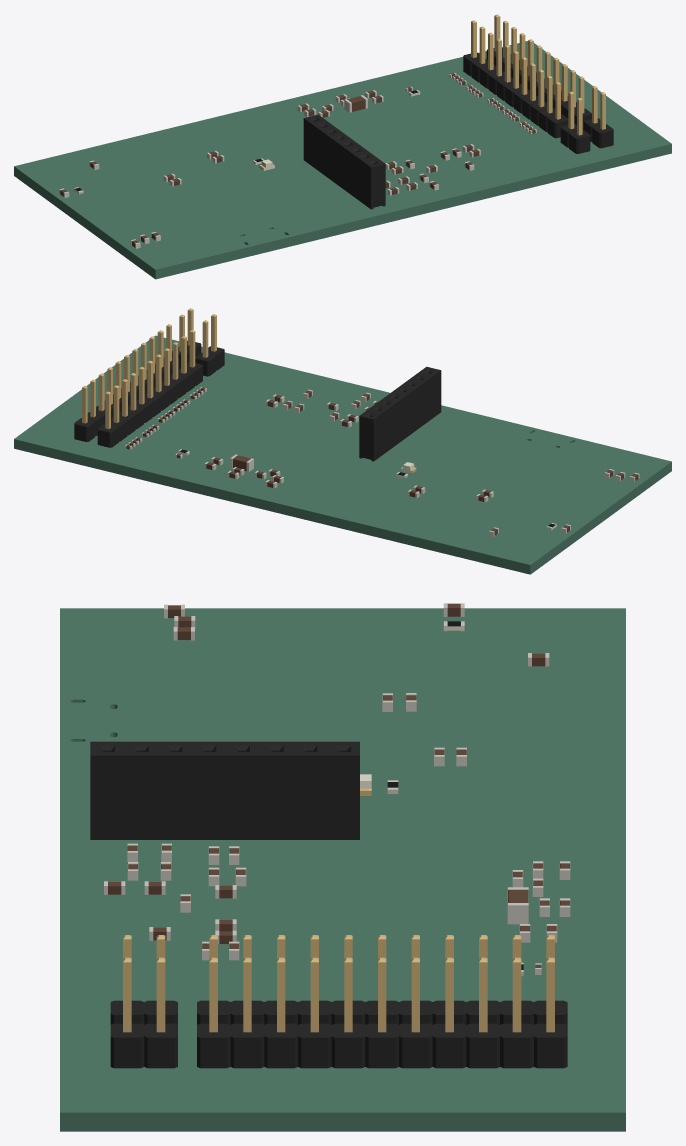
File: board.gltf
The picture shows the model from 3 angles, top to bottom: view 1: azimuth 30°, elevation 25°; view 2: azimuth 150°, elevation 25°; view 3: azimuth 270°, elevation 25°; orthographic projection. The views are drawn at different scales.
Visible parts, largest first — view 1: =>[0:1:1:18], =>[0:1:1:9] (×2), =>[0:1:1:3], =>[0:1:1:15] (×2); view 2: =>[0:1:1:18], =>[0:1:1:9] (×2), =>[0:1:1:3], =>[0:1:1:15] (×2); view 3: =>[0:1:1:18], =>[0:1:1:9] (×2), =>[0:1:1:3], =>[0:1:1:15] (×2), =>[0:1:1:17].
Boxes of the visible parts, x1,y1,x2,y2 form: =>[0:1:1:18]: (14, 41, 671, 279); =>[0:1:1:9] (×2): (463, 14, 591, 138); =>[0:1:1:3]: (303, 114, 385, 209); =>[0:1:1:15] (×2): (560, 86, 613, 153); =>[0:1:1:18]: (14, 335, 671, 574); =>[0:1:1:9] (×2): (74, 324, 202, 447); =>[0:1:1:3]: (359, 366, 441, 461); =>[0:1:1:15] (×2): (172, 308, 224, 376); =>[0:1:1:18]: (60, 608, 625, 1131); =>[0:1:1:9] (×2): (197, 935, 567, 1068); =>[0:1:1:3]: (90, 741, 359, 839); =>[0:1:1:15] (×2): (110, 935, 177, 1068); =>[0:1:1:17]: (507, 887, 528, 924).
Bounding box in the file's own units: 0.0899 × 0.0116 × 0.0427.
